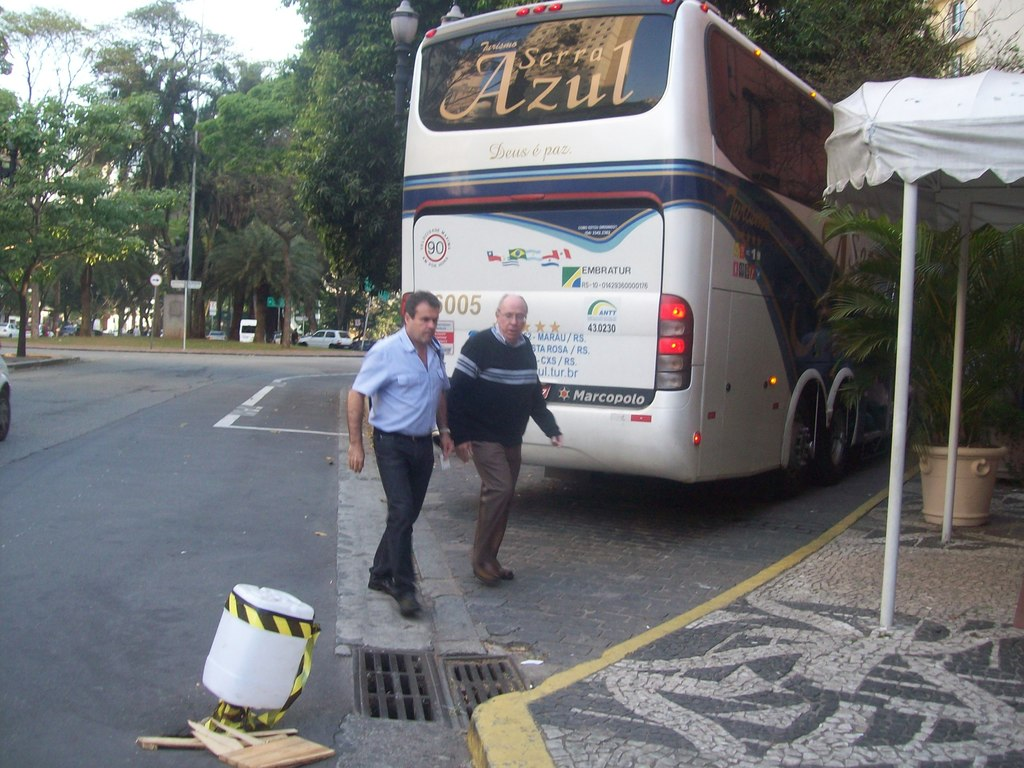Car: (295, 326, 352, 352)
